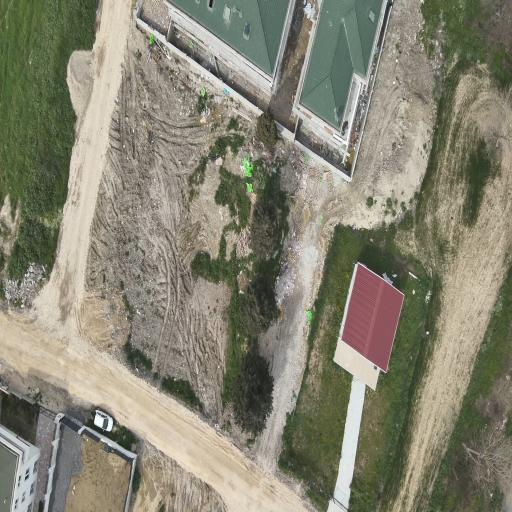car: (94, 410, 113, 431)
